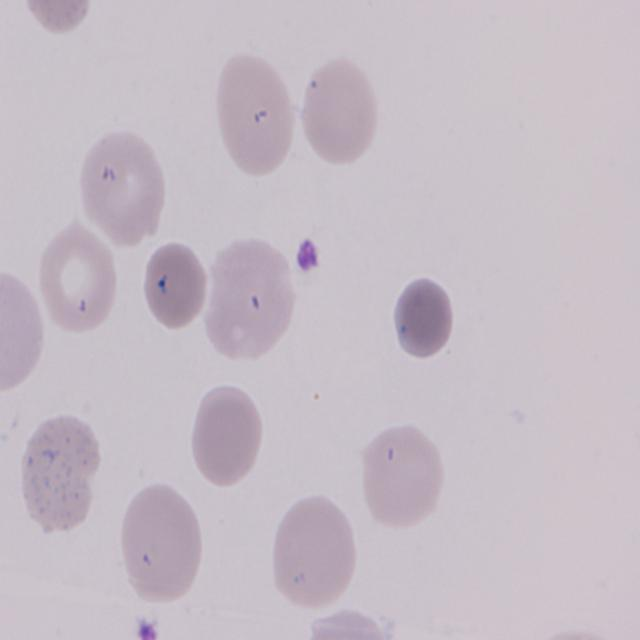RBC: (208, 236, 300, 366), (268, 489, 362, 609), (74, 124, 168, 244), (116, 481, 206, 604), (216, 49, 301, 178), (358, 422, 446, 530), (297, 56, 382, 166), (39, 224, 122, 336), (188, 380, 266, 488), (284, 611, 415, 640), (24, 0, 99, 29)
Spherocyte: (138, 236, 209, 332), (389, 276, 458, 366)
